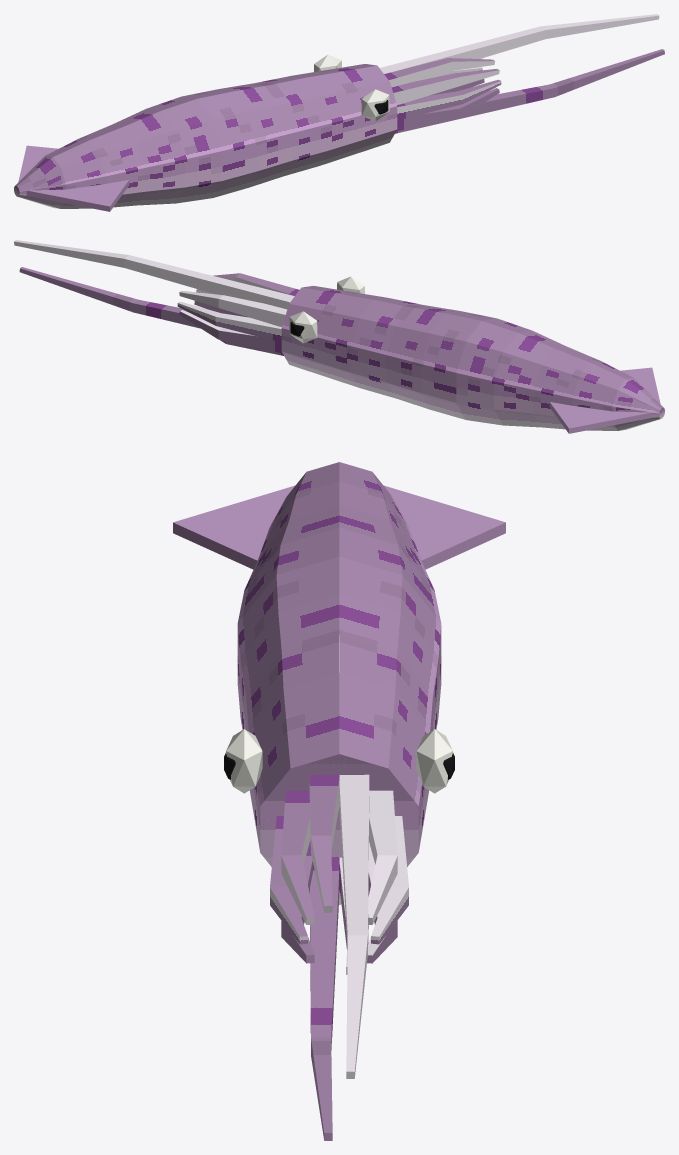
File: southern_calamari.glb
3 renders of one model, top to bottom at view 1: azimuth 30°, elevation 25°; view 2: azimuth 150°, elevation 25°; view 3: azimuth 270°, elevation 25°, orthographic. The views are drawn at different scales.
Parts seen in each view (by area): view 1: fish_southern_calamari; view 2: fish_southern_calamari; view 3: fish_southern_calamari.
Boxes of the visible parts, x1,y1,x2,y2 form: fish_southern_calamari: (14,14,664,211); fish_southern_calamari: (14,240,664,433); fish_southern_calamari: (173,462,505,1140).
Bounding box in the file's own units: 1.25 × 0.18 × 0.28.
4 materials, 1 textured.
